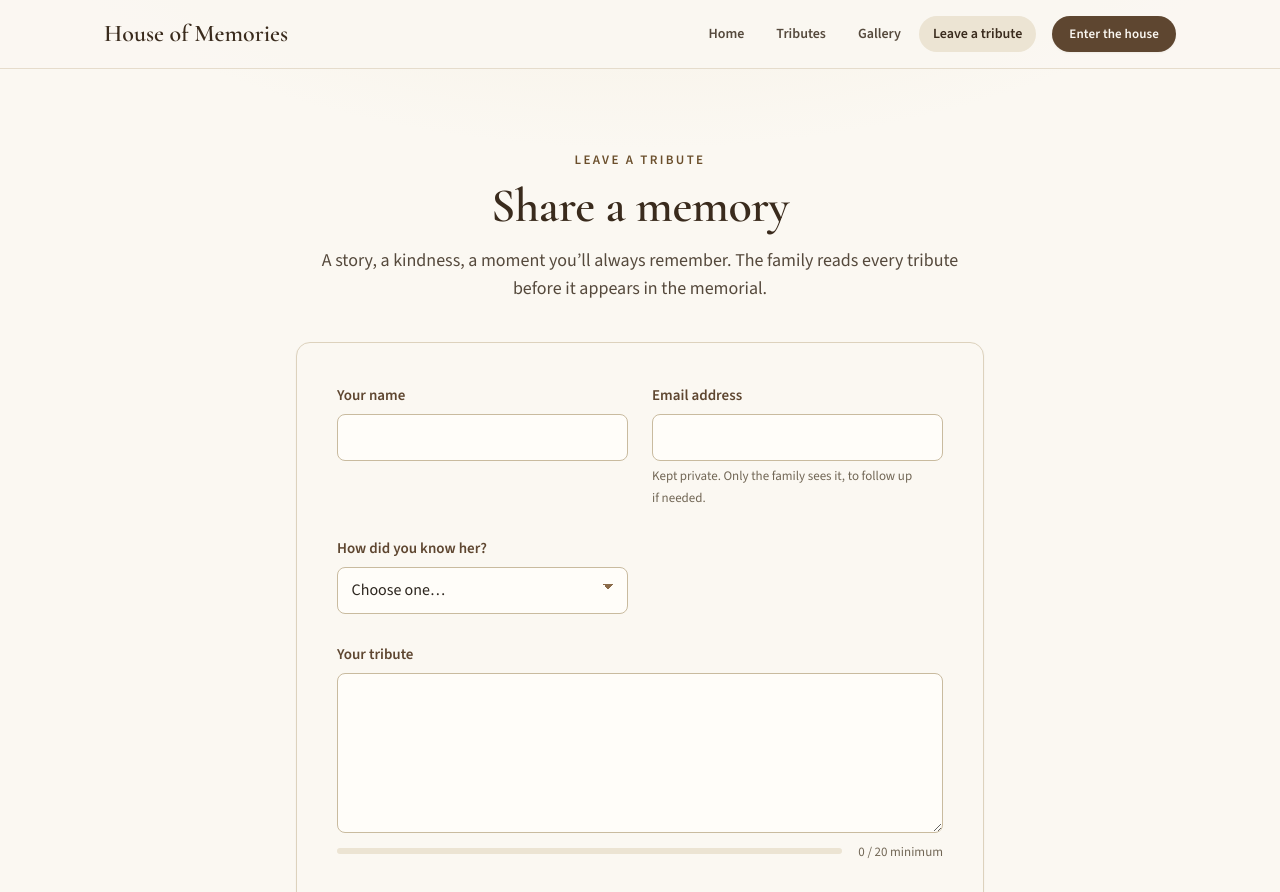
Test case: tribute submission form › shows a character count and progress toward the minimum
This screenshot has width=1280, height=892.
Check: the text "0 / 20 minimum" is shown, box [858,840,943,862]
Type "0123456789" into the text box labelled "Your tribute" at coordinates (640, 752), box [337,672,943,832]
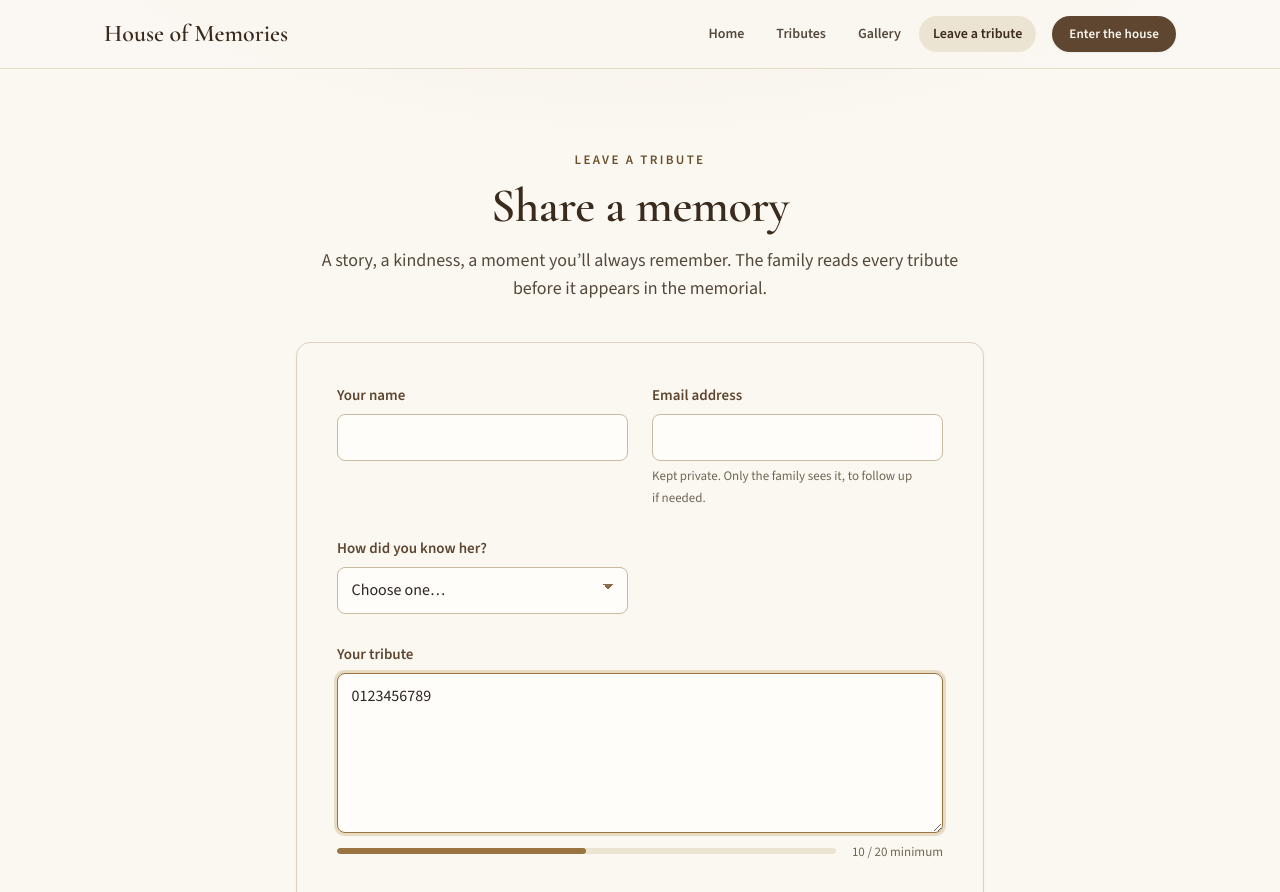
Check: the text "10 / 20 minimum" is shown, box [852,840,943,862]
Type "0123456789ab" into the text box labelled "Your tribute" at coordinates (640, 752), box [337,672,943,832]
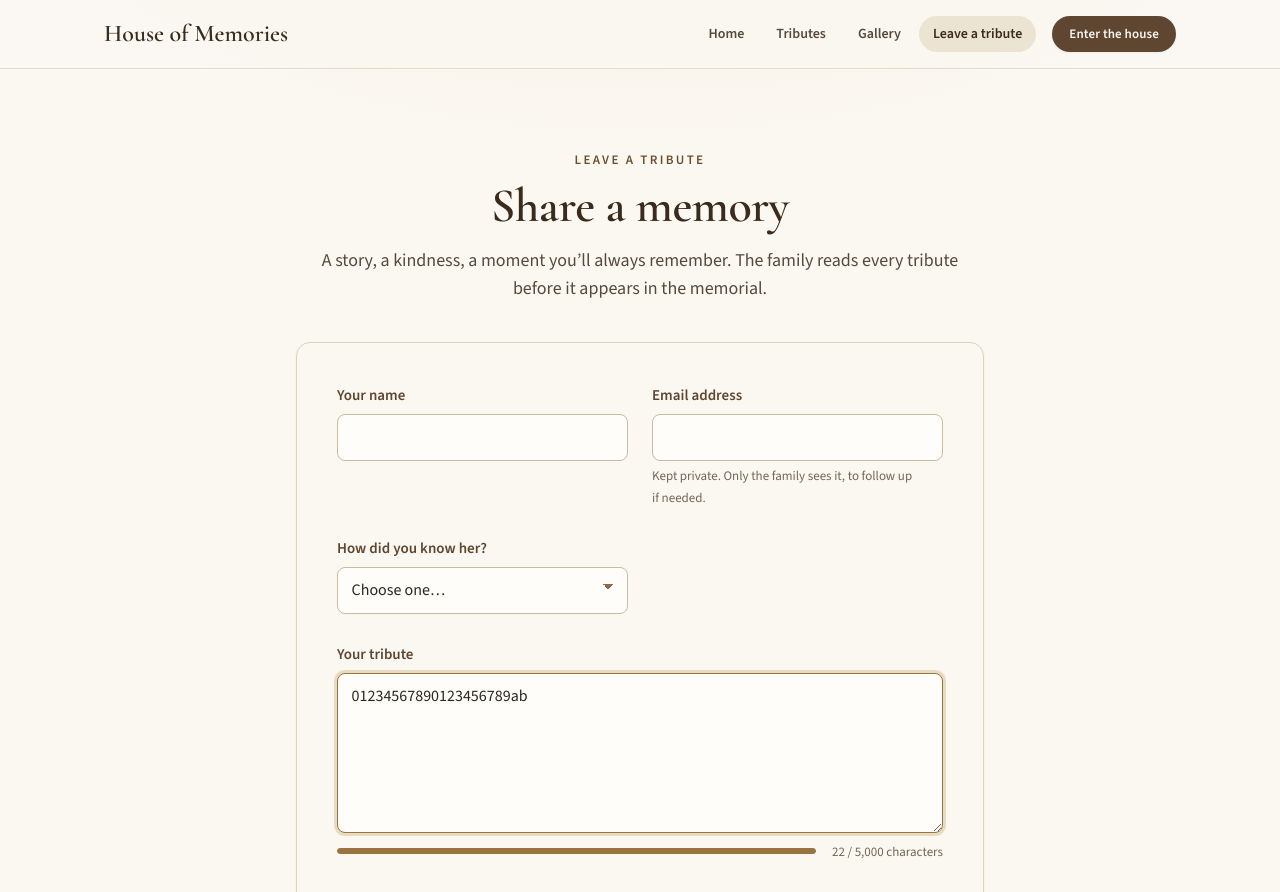
Check: the text "22 / 5,000 characters" is shown, box [832,840,943,862]
